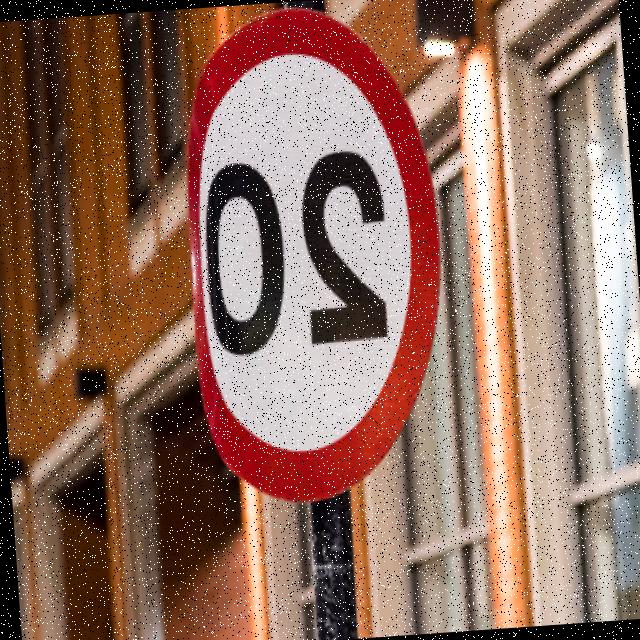speed_limit_20: (105, 0, 464, 526)
